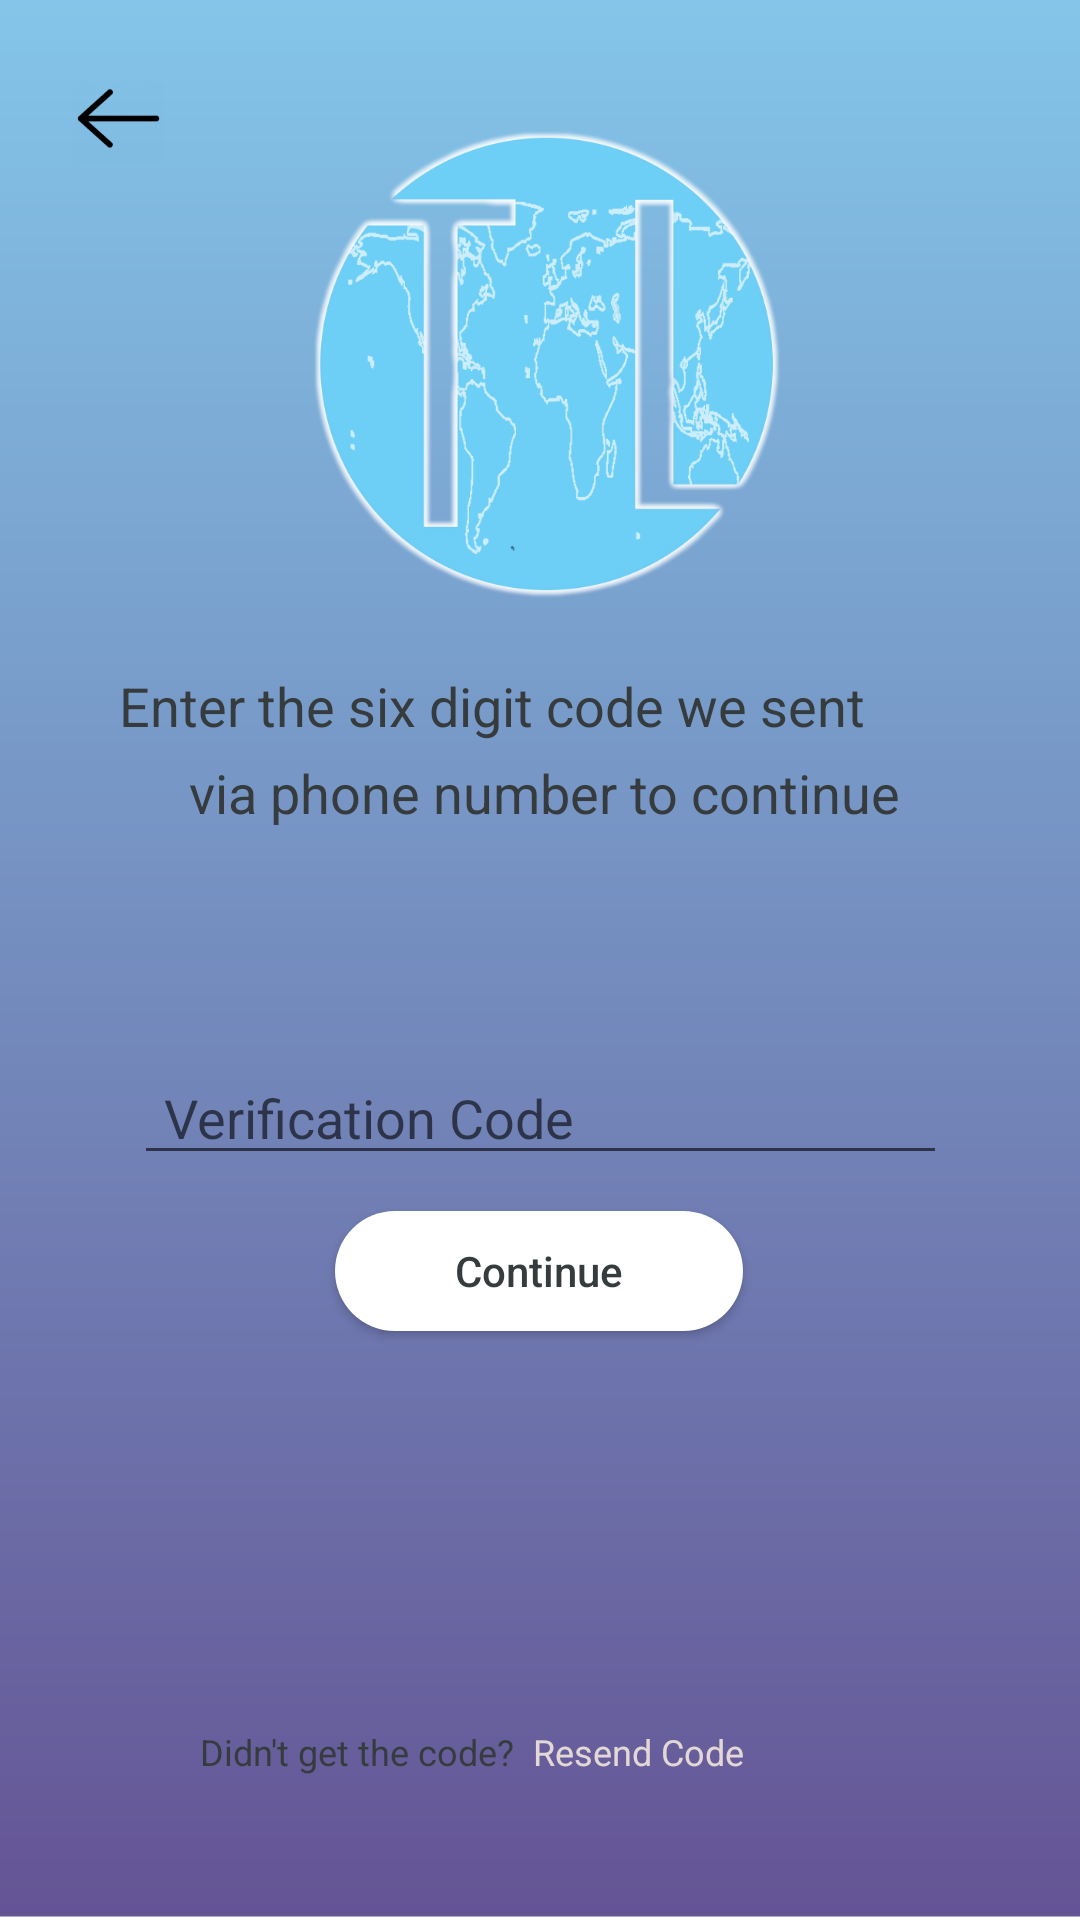

Named icons in this screenshot (1080px x 1920px) and their centers, (x=x, y=y):
back arrow: (x=119, y=118)
